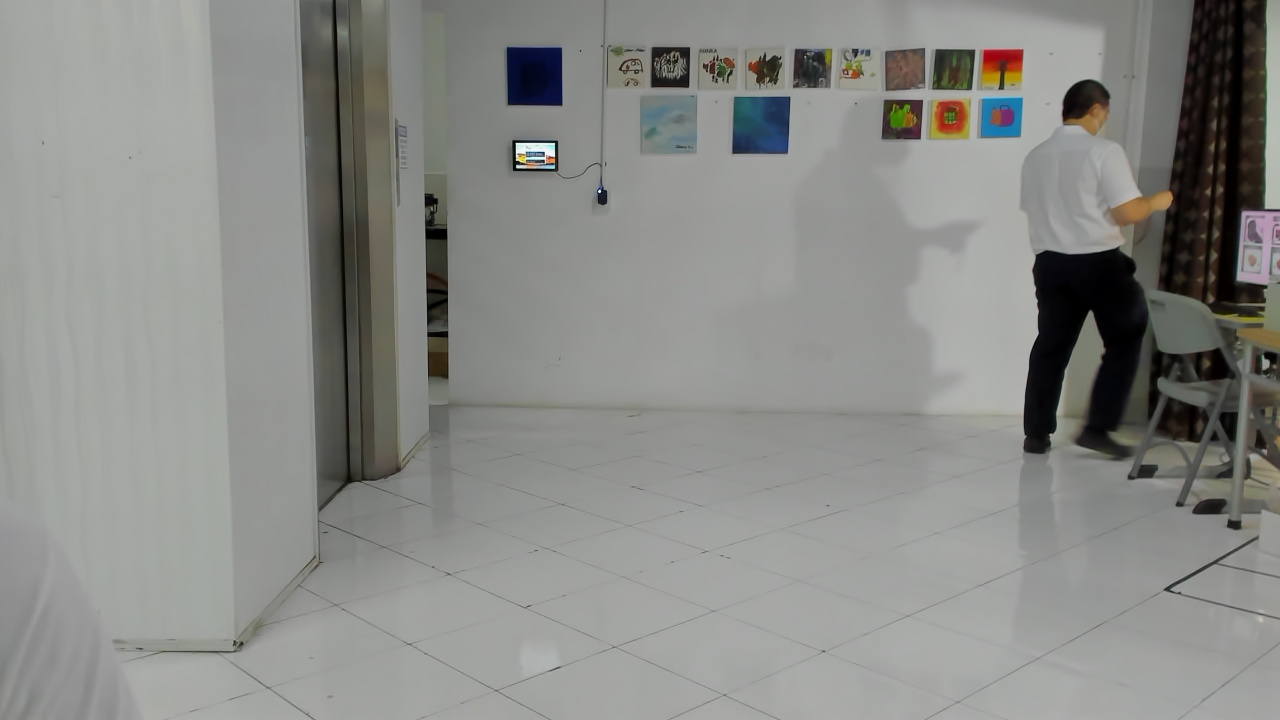bg: (1, 4, 1206, 720)
